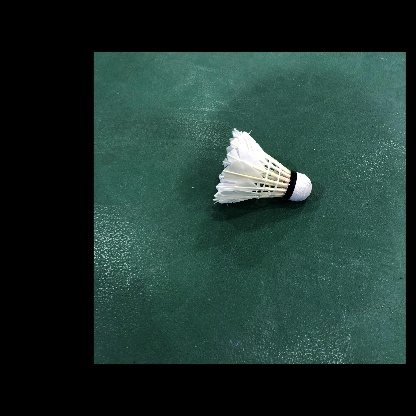ball_single: (213, 127, 312, 204)
